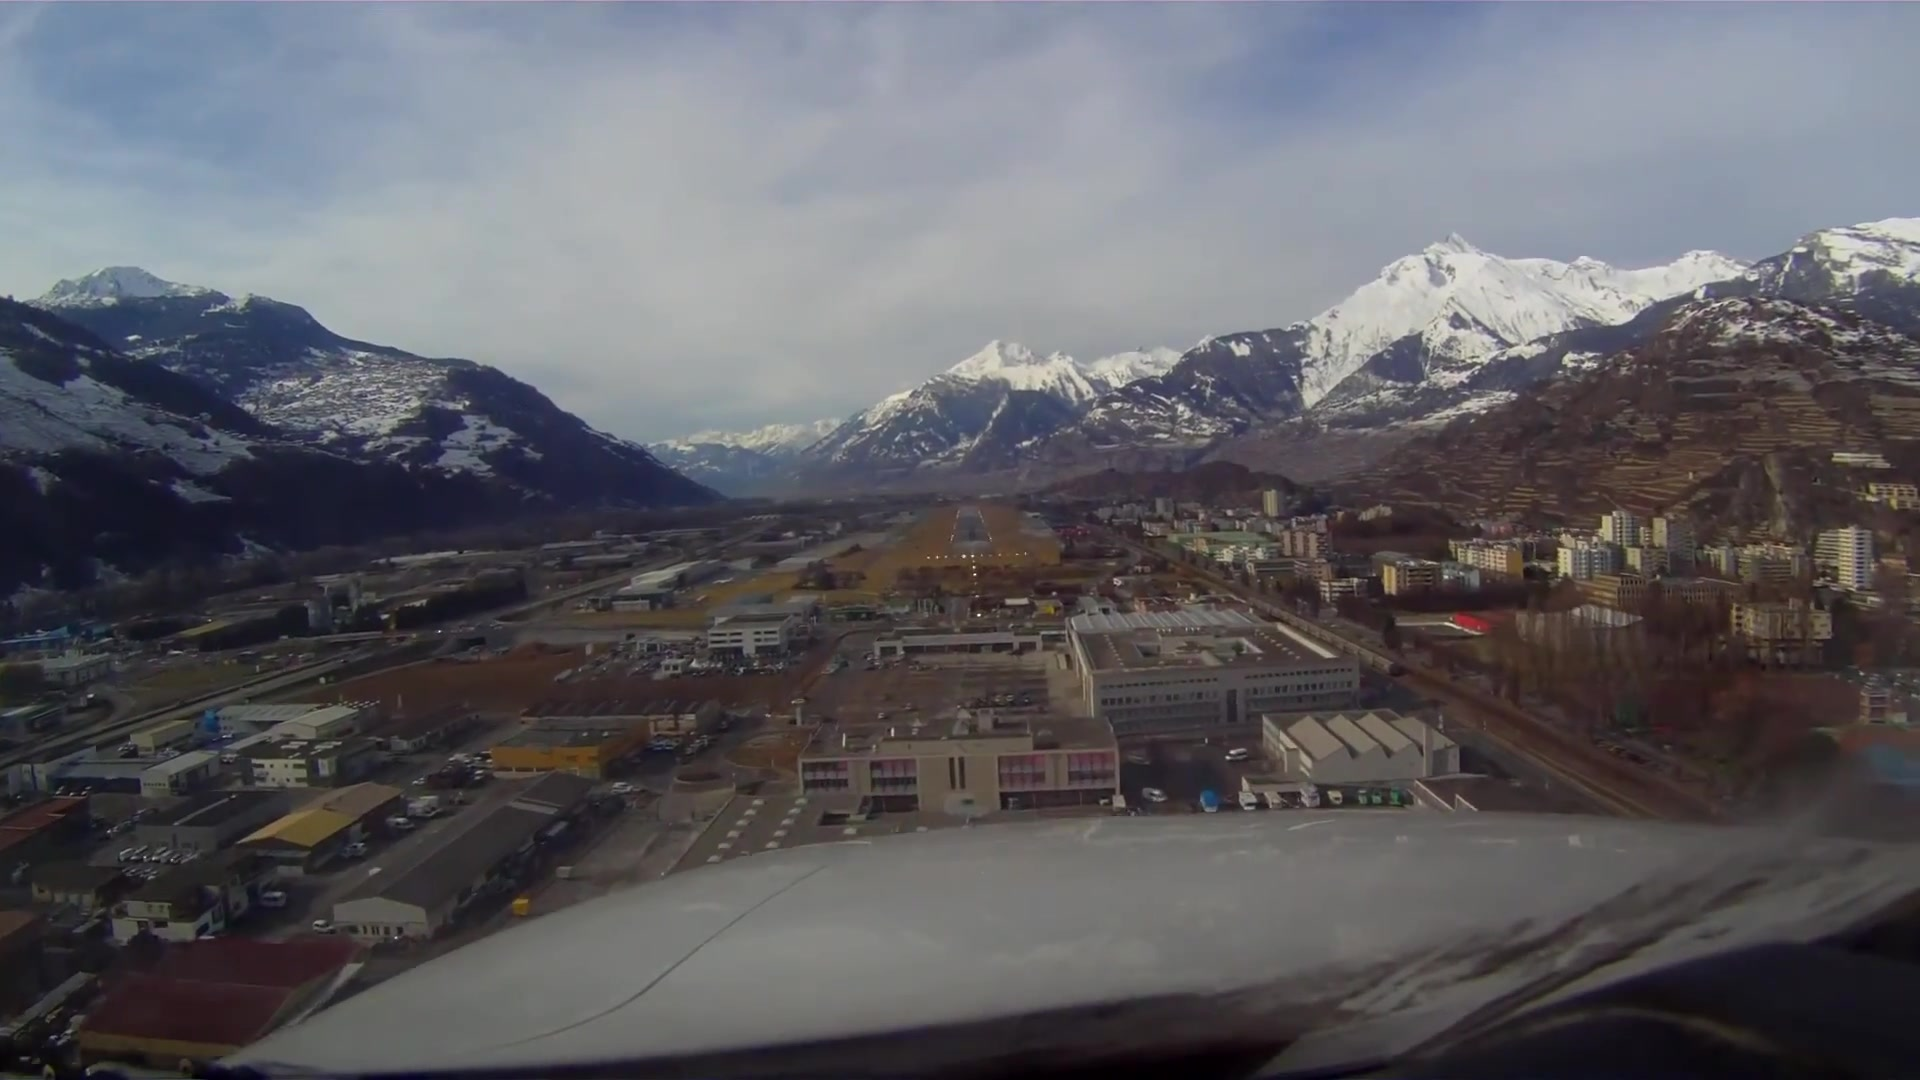runway: (948, 506, 996, 551)
